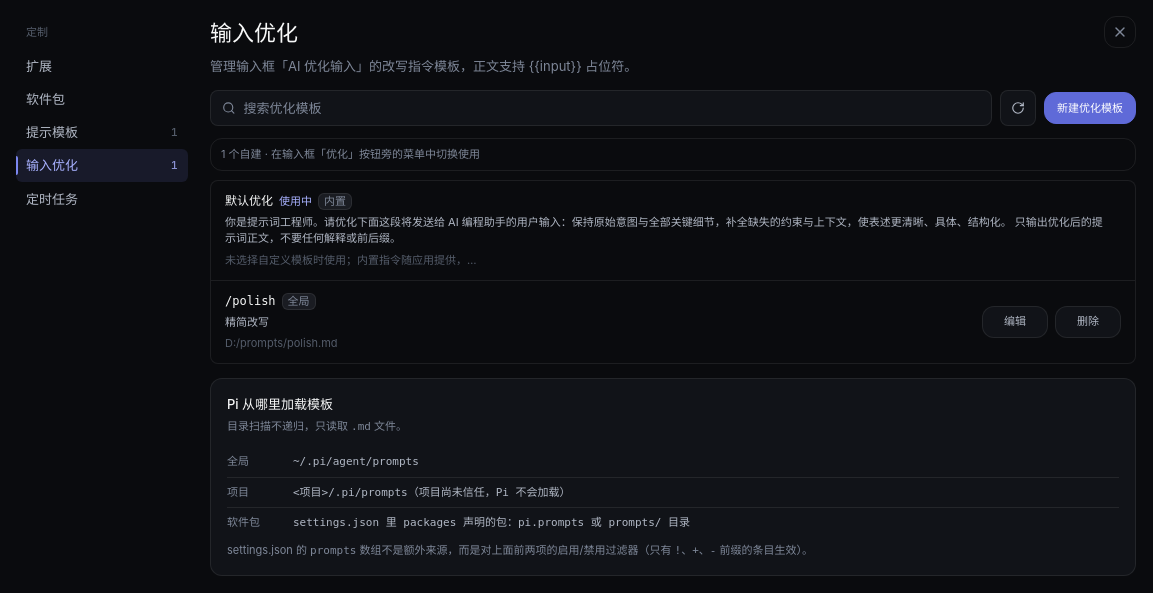
Test case: 输入优化模板管理 › keeps optimizer templates out of the general template manager
This screenshot has width=1153, height=593.
Click the button "提示模板 1" at point(102, 132), box [16,116,188,148]
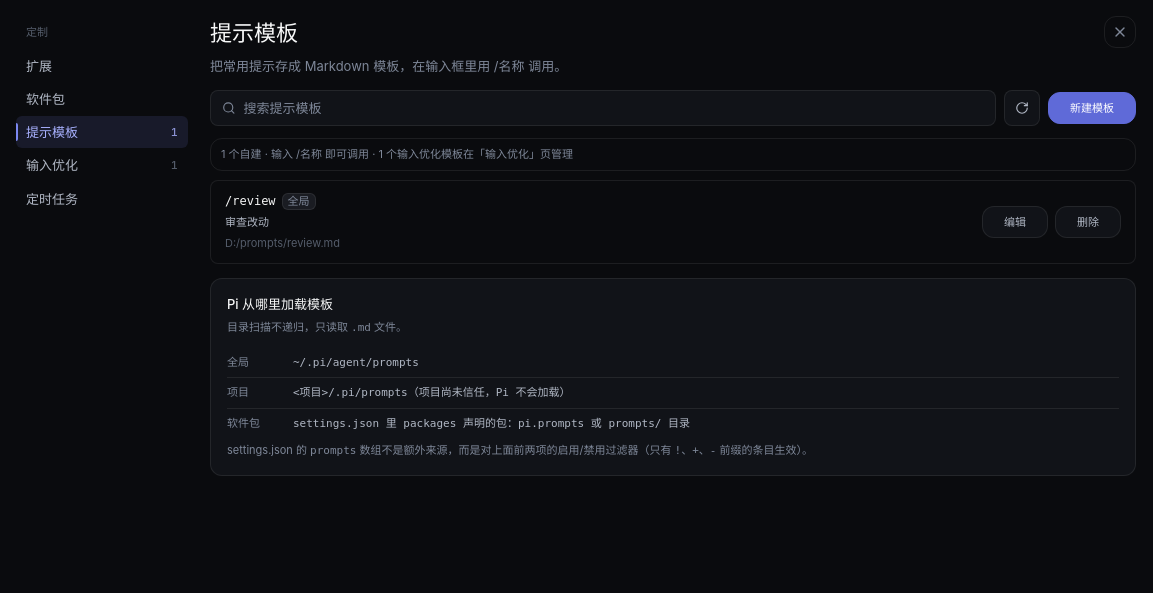
Check: the text "/review" is shown, box [225,192,276,211]
Check: the text "/polish" is gone
Check: the text "1 个自建 · 输入 /名称 即可调用 · 1 个输入优化模板在「输入优化」页管理" is shown, box [210,138,1136,171]
